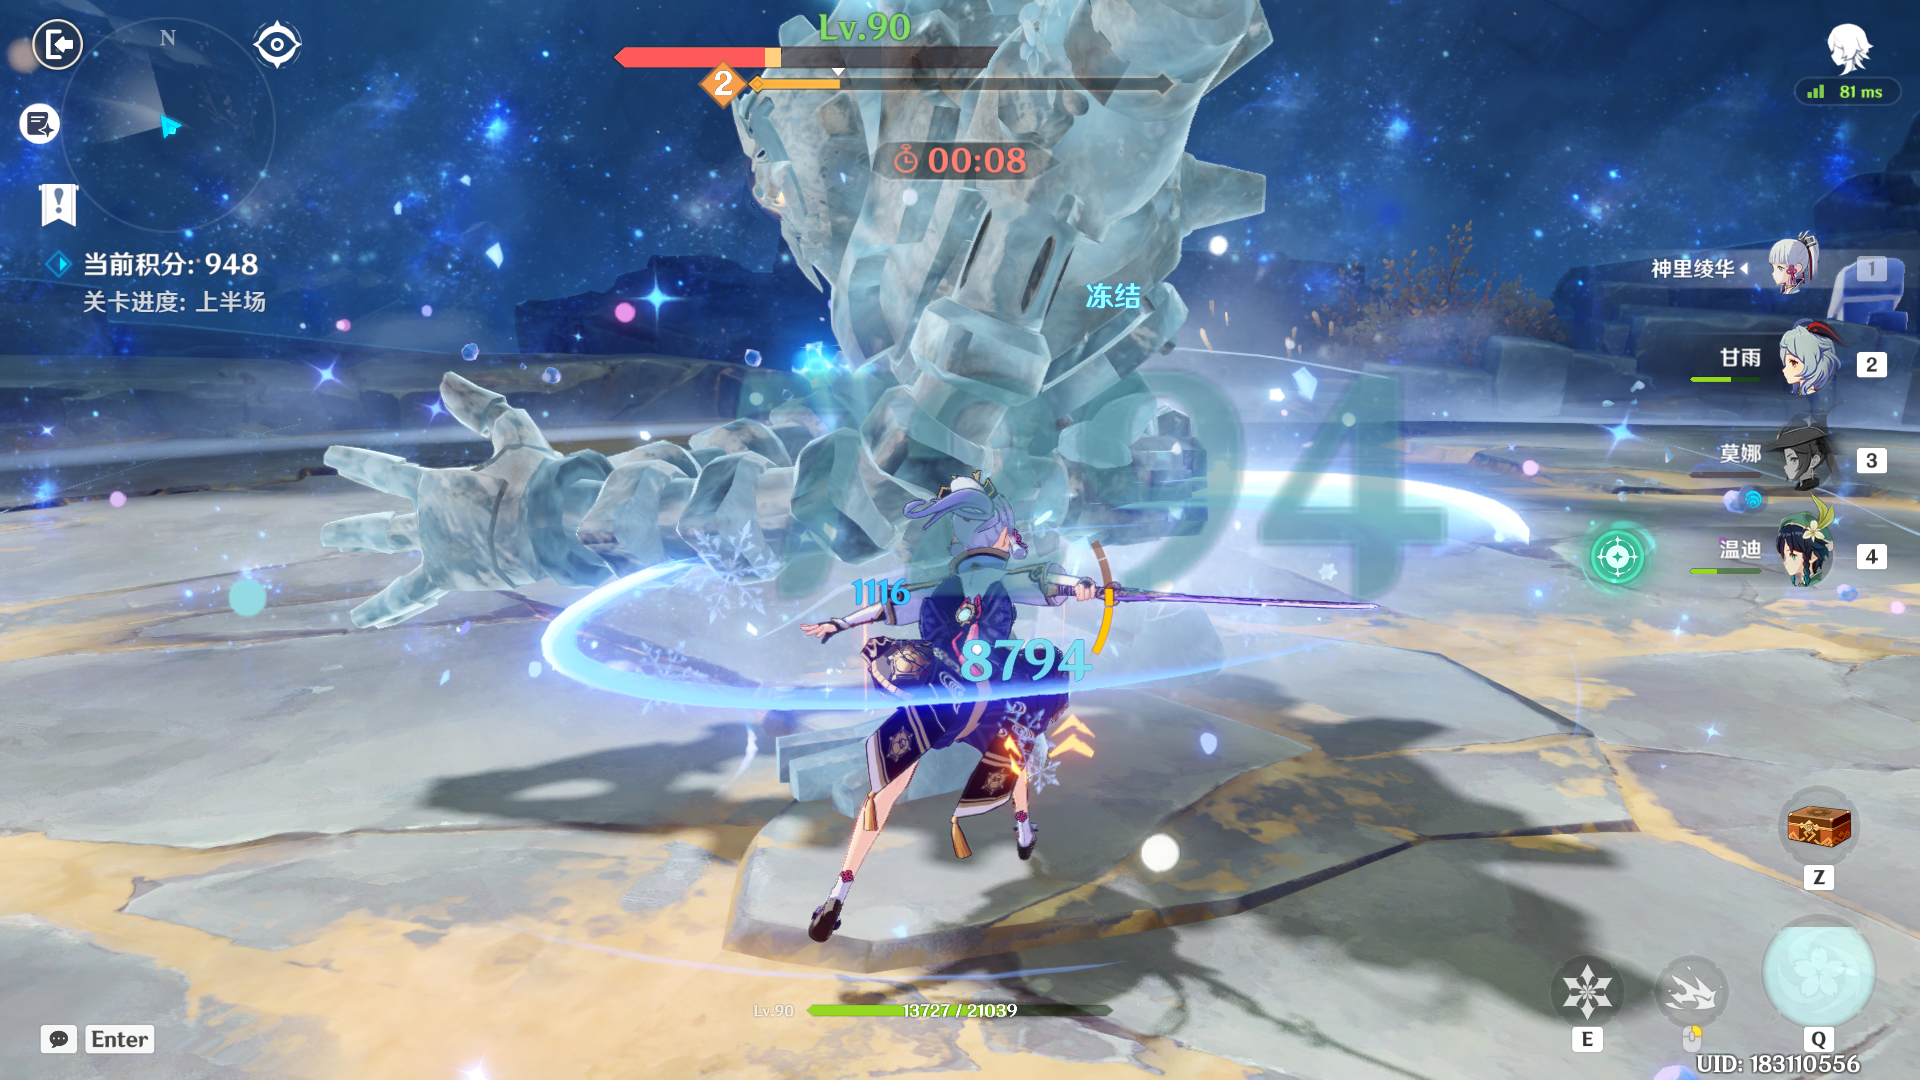character: (746, 438, 1101, 938)
